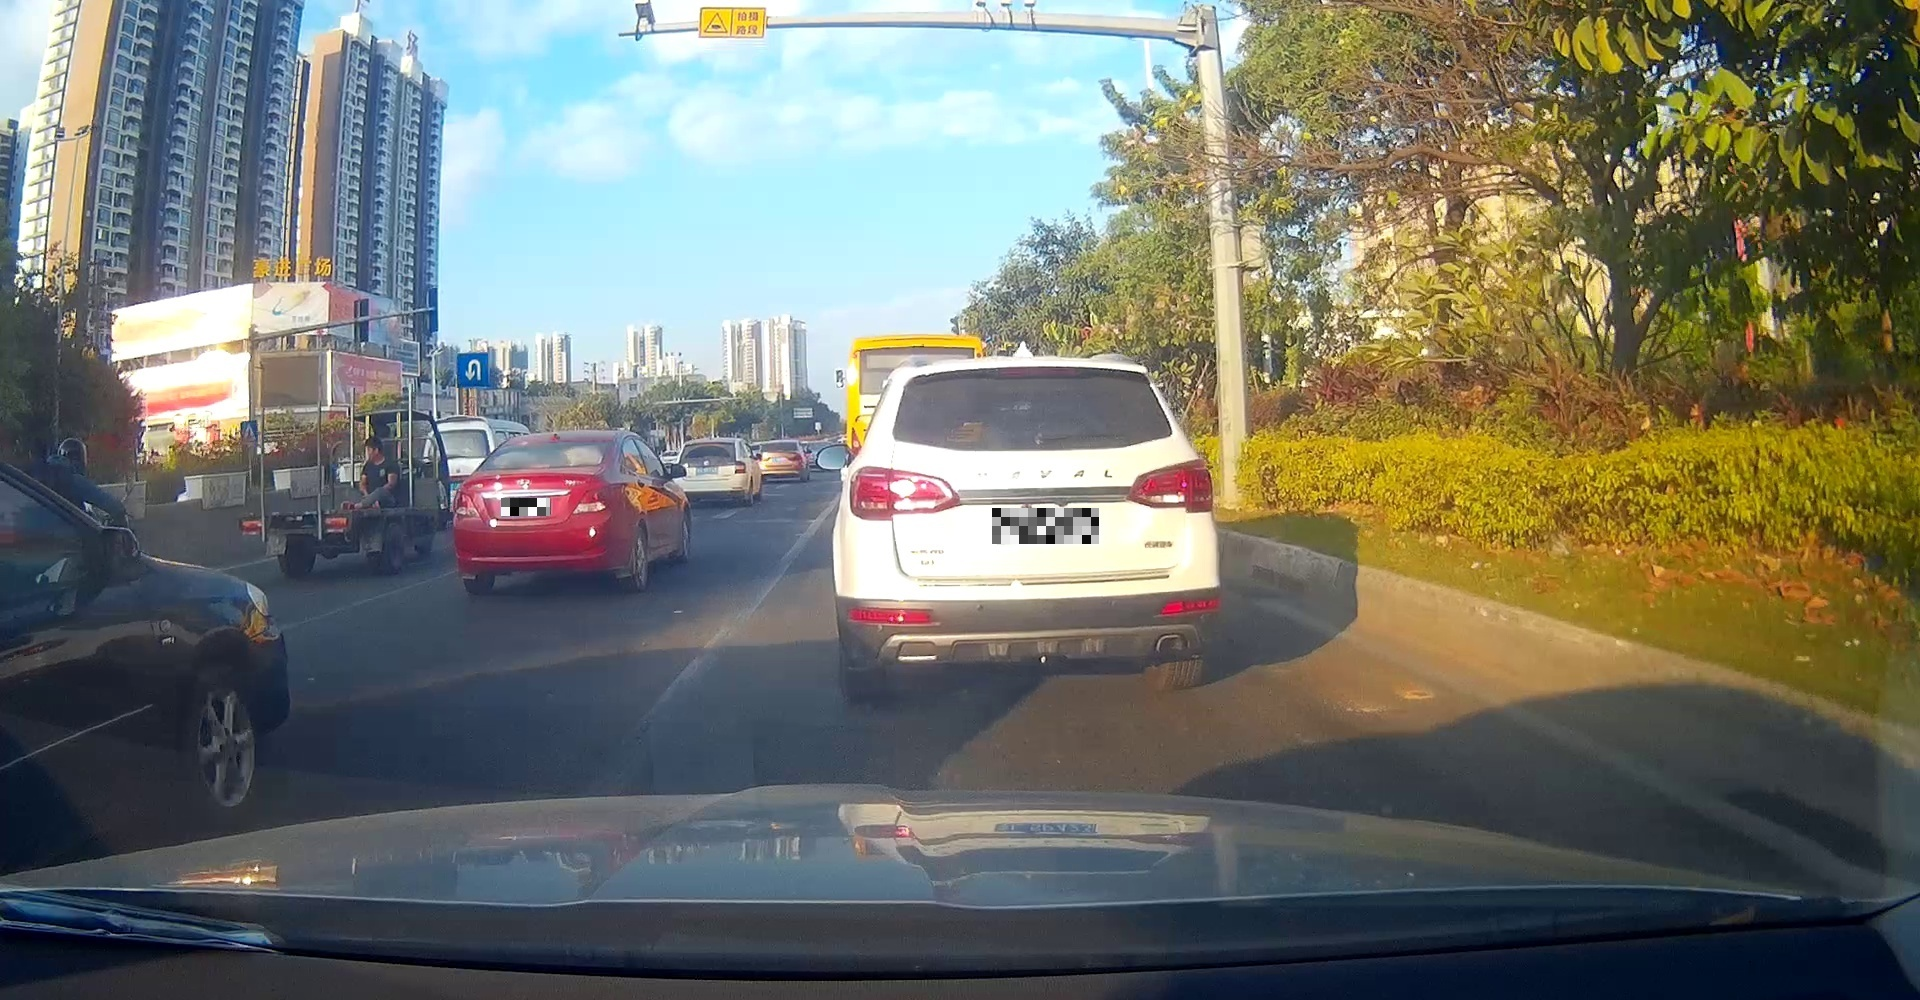L_light: (850, 466, 963, 522), (452, 490, 481, 518)
R_light: (1124, 458, 1213, 513), (570, 482, 627, 515)
T_light: (997, 367, 1078, 377), (528, 464, 551, 468)
day-no: (832, 354, 1222, 701), (452, 431, 629, 591)
plate_1: (502, 497, 550, 516)
plate_2: (992, 508, 1098, 544)
